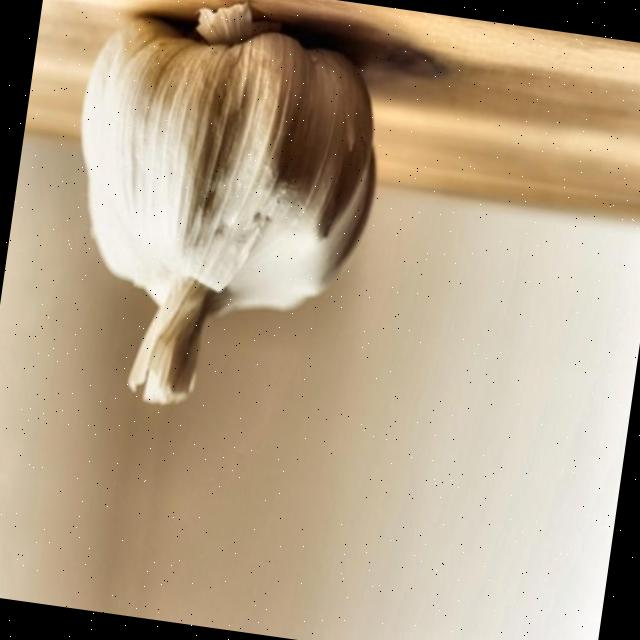garlic: (80, 4, 373, 402)
